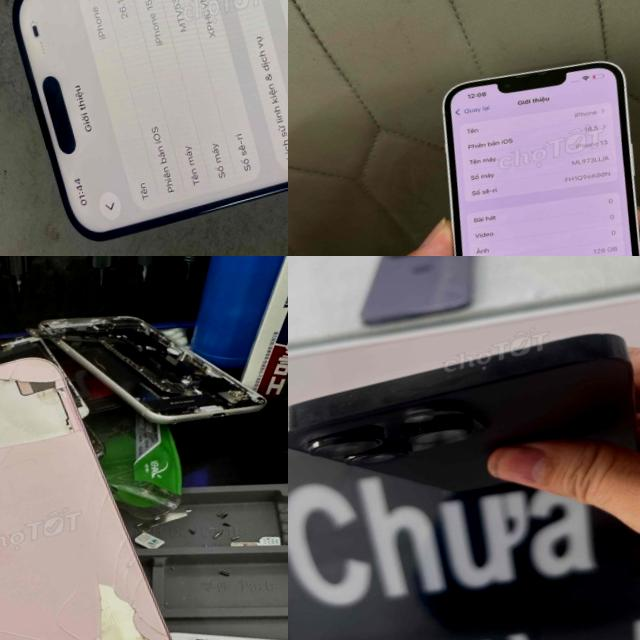physical_damage: (0, 546, 175, 640), (0, 357, 77, 469), (80, 481, 136, 566)
